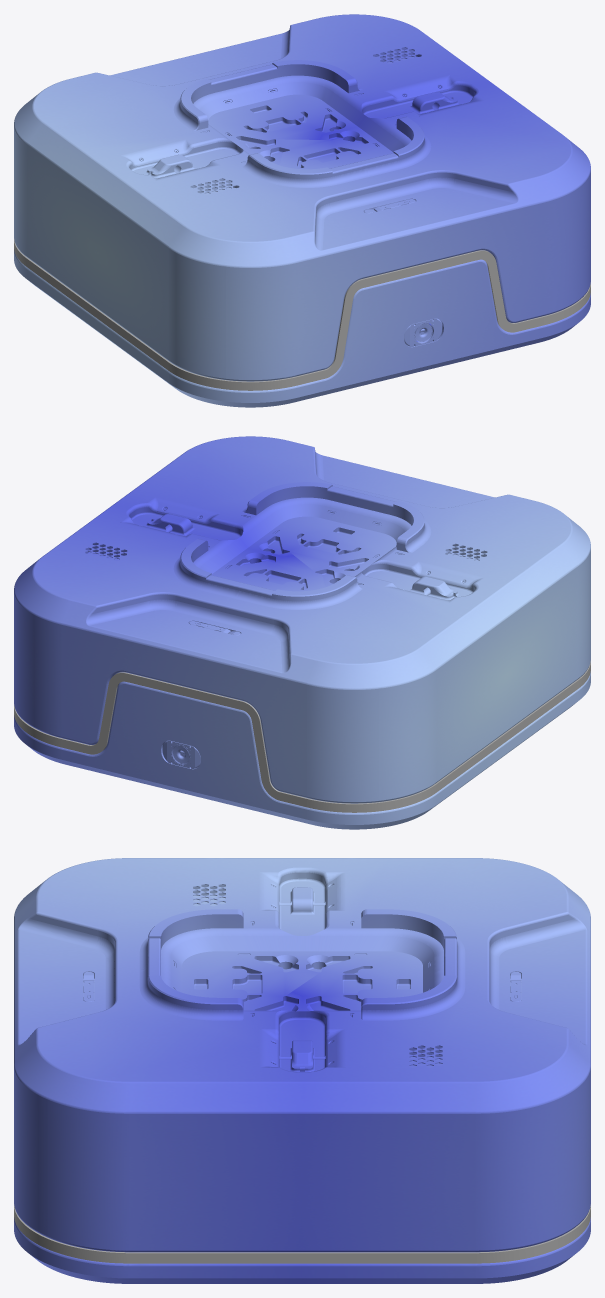
The picture shows the model from 3 angles, top to bottom: view 1: azimuth 30°, elevation 25°; view 2: azimuth 150°, elevation 25°; view 3: azimuth 270°, elevation 25°; orthographic projection. The views are drawn at different scales.
Visible parts, largest first — view 1: Sci_Fi_Crate25_1, Sci_Fi_Crate25_2; view 2: Sci_Fi_Crate25_1, Sci_Fi_Crate25_2; view 3: Sci_Fi_Crate25_1, Sci_Fi_Crate25_2.
Boxes of the visible parts, x1,y1,x2,y2 form: Sci_Fi_Crate25_1: [14, 14, 590, 407]; Sci_Fi_Crate25_2: [14, 239, 590, 390]; Sci_Fi_Crate25_1: [14, 436, 590, 829]; Sci_Fi_Crate25_2: [14, 661, 590, 812]; Sci_Fi_Crate25_1: [14, 858, 590, 1283]; Sci_Fi_Crate25_2: [14, 1204, 590, 1263].
Bounding box in the file's own units: 300 × 121 × 300.
2 materials, 1 textured.
